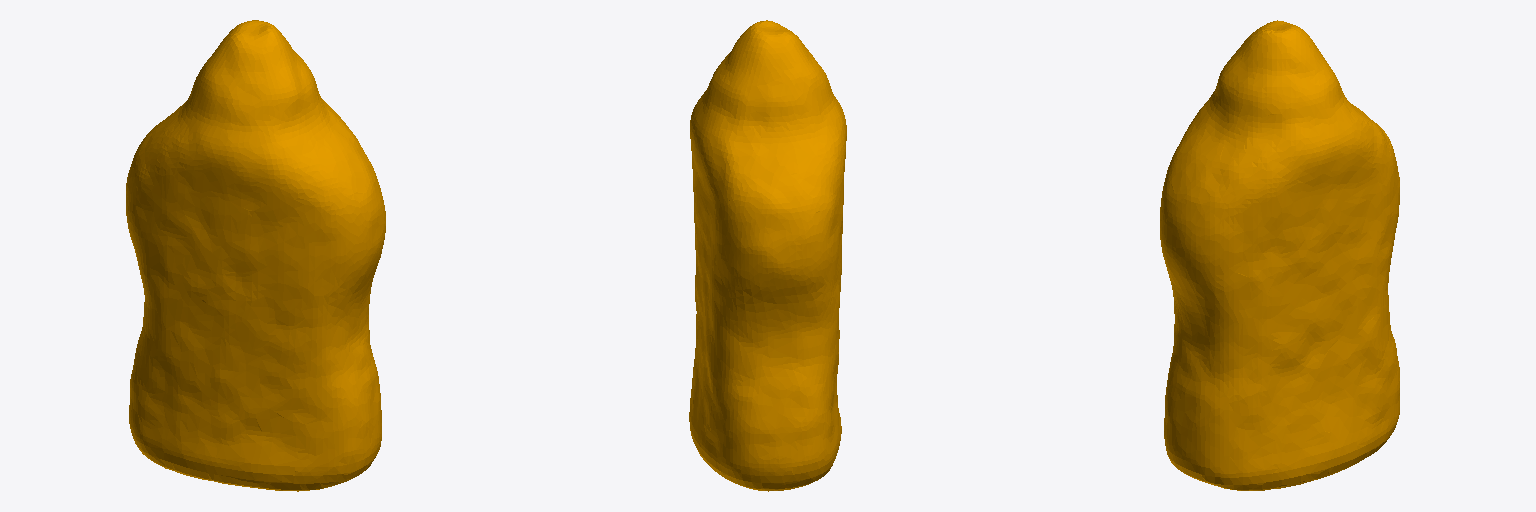
The robot description file, URDF, robot "006_mustard_bottle":
<?xml version="1.0"?>
<robot name="006_mustard_bottle">
  <link name="base_link">
    <inertial>
      <origin xyz="0.003563 -0.008475 0.083724" rpy="0 0 0" />
      <mass value="0.719160" />
      <inertia ixx="0.00187457" ixy="0.00012229" ixz="0.00000964"
               iyy="0.00180383" iyz="0.00002067" izz="0.00056518" />
    </inertial>
    <visual>
      <geometry><mesh filename="006_mustard_bottle.stl" scale="1.0 1.0 1.0" /></geometry>
    </visual>
    <collision>
      <geometry><mesh filename="006_mustard_bottle_col.obj" scale="1.0 1.0 1.0" /></geometry>
    </collision>
    <contact>
      <lateral_friction value="1.0"/>
    </contact>
  </link>
</robot>

--- Render facts (derived) ---
3 views of the same robot in one strip: view 1: azimuth 30°, elevation 25°; view 2: azimuth 150°, elevation 25°; view 3: azimuth 270°, elevation 25° (orthographic).
Model 006_mustard_bottle with 1 links and 0 joints (none), rooted at base_link, posed all joints at 0.
Links seen in each view (by area): view 1: base_link; view 2: base_link; view 3: base_link.
Link boxes in pixels (x1,y1,x2,y2): base_link: (126, 20, 385, 491); base_link: (689, 20, 846, 491); base_link: (1160, 20, 1399, 490).
Bounding box of the posed robot: 0.0828 × 0.094 × 0.1875 m (x, y, z).
1 mesh visuals loaded from 1 distinct referenced files (1 binary STL).
